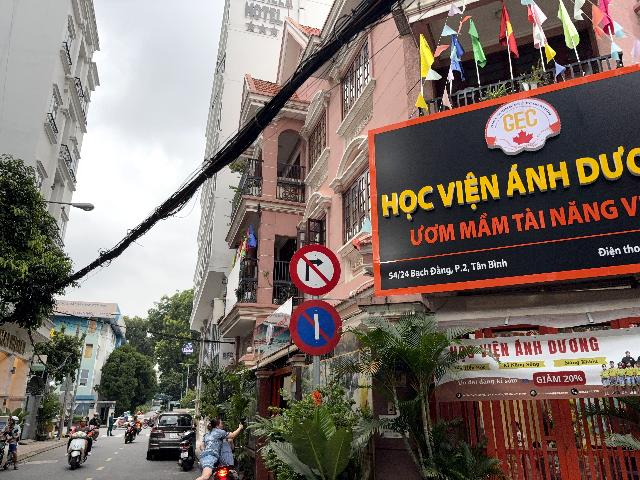cam-do-xe-ngay-le: (290, 299, 343, 356)
cam-re-phai: (289, 244, 341, 296)
